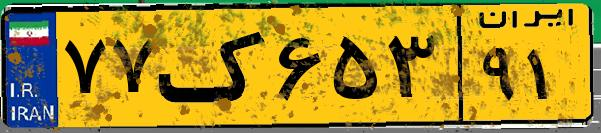1: (525, 38, 570, 115)
3: (385, 28, 445, 110)
5: (330, 28, 385, 110)
6: (270, 28, 330, 110)
7: (57, 26, 110, 100), (110, 28, 158, 98)
9: (475, 38, 525, 113)
ک: (158, 12, 270, 120)
